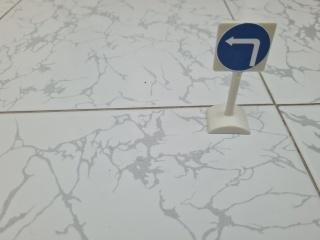left: (205, 14, 275, 82)
